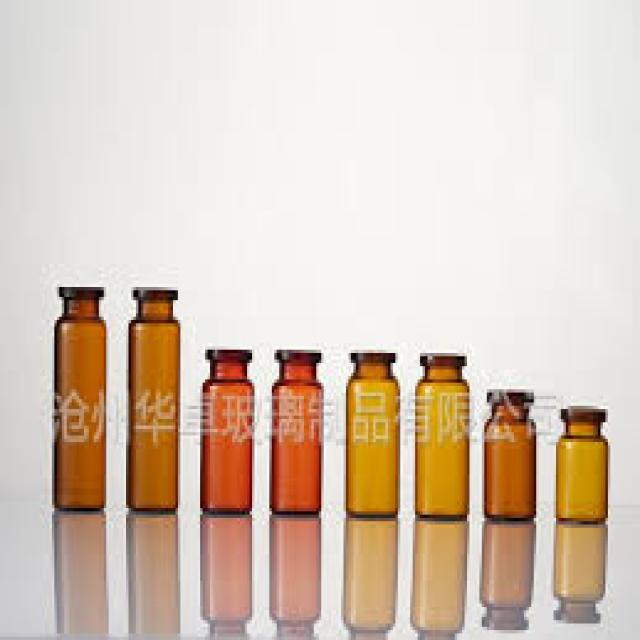glass: (49, 287, 104, 511), (126, 284, 180, 508), (341, 350, 400, 515), (413, 350, 467, 518), (267, 347, 319, 512), (198, 347, 250, 512), (480, 386, 537, 518), (554, 403, 606, 525)
